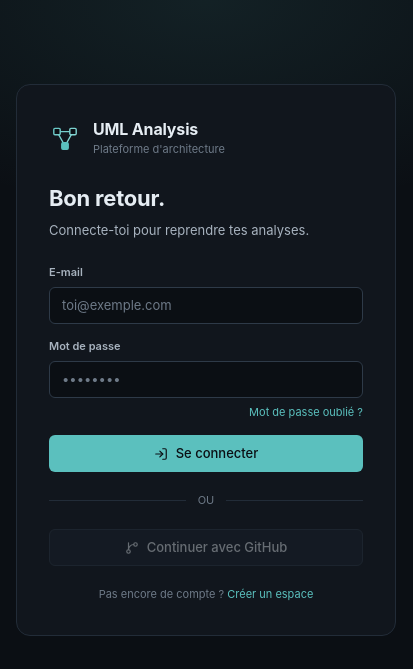
Test: Login — error handling › displays wrong-credentials message on 401
Type "bad@test.com" into the field with placeholder "toi@exemple.com".
click(206, 306); type("bad@test.com")  # box [49,287,363,324]
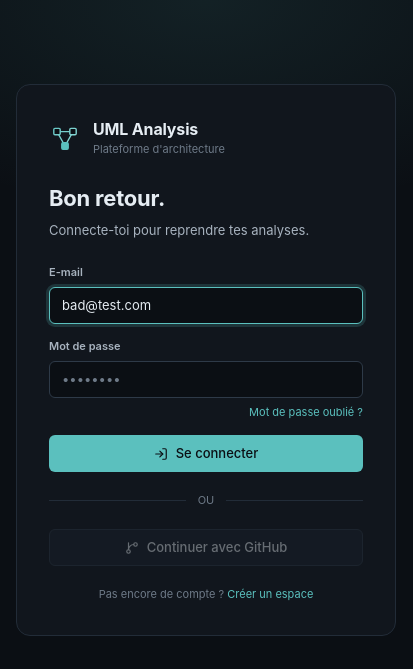
Type "wrongpassword" into the password field with placeholder "••••••••".
click(206, 380); type("wrongpassword")  # box [49,361,363,398]
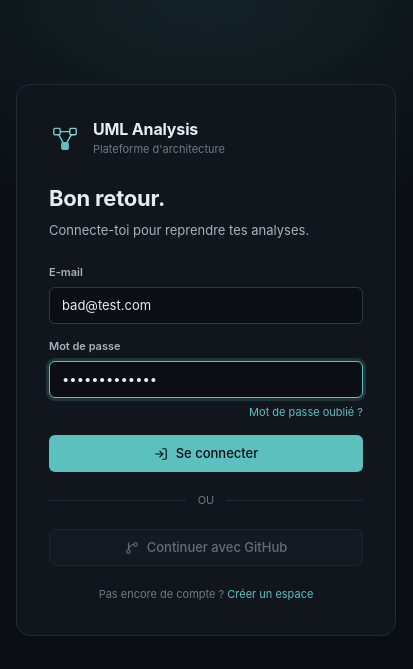
Click the button "Se connecter".
click(206, 454)  # box [49,435,363,472]
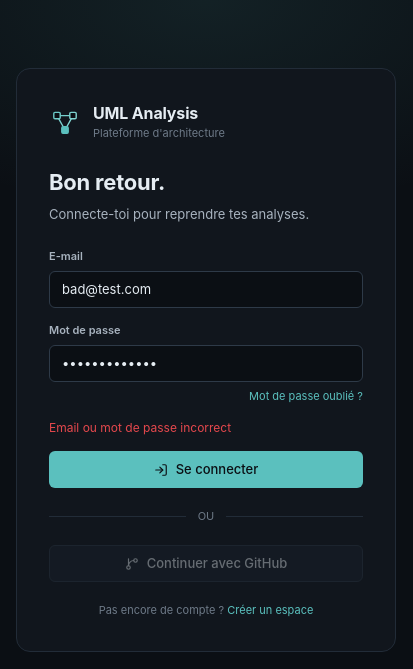
Expected: the text "Email ou mot de passe incorrect" is shown, [49,420,231,435]
